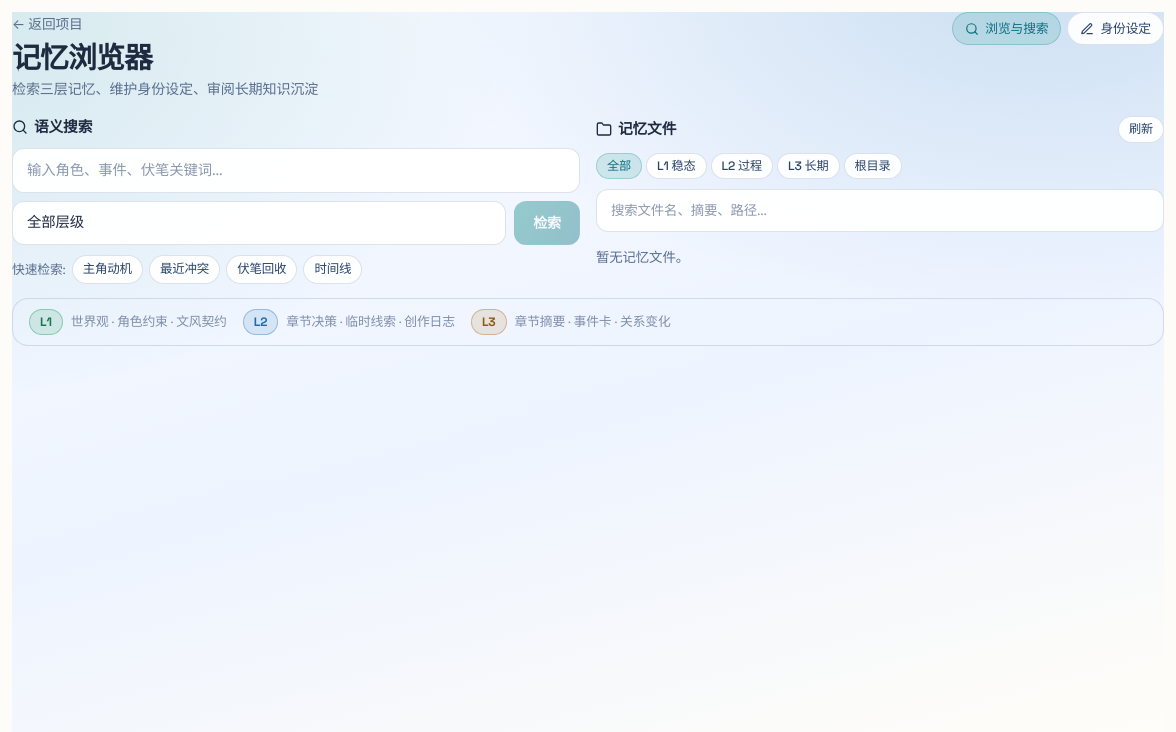
it: MemoryBrowserPage › filters results by layer
Expected: the field with placeholder "输入角色、事件、伏笔关键词..." is shown, 12,148 -> 580,193
Select "仅 L1" in the dropdown named "层级筛选": (259, 223) 12,201 -> 506,245
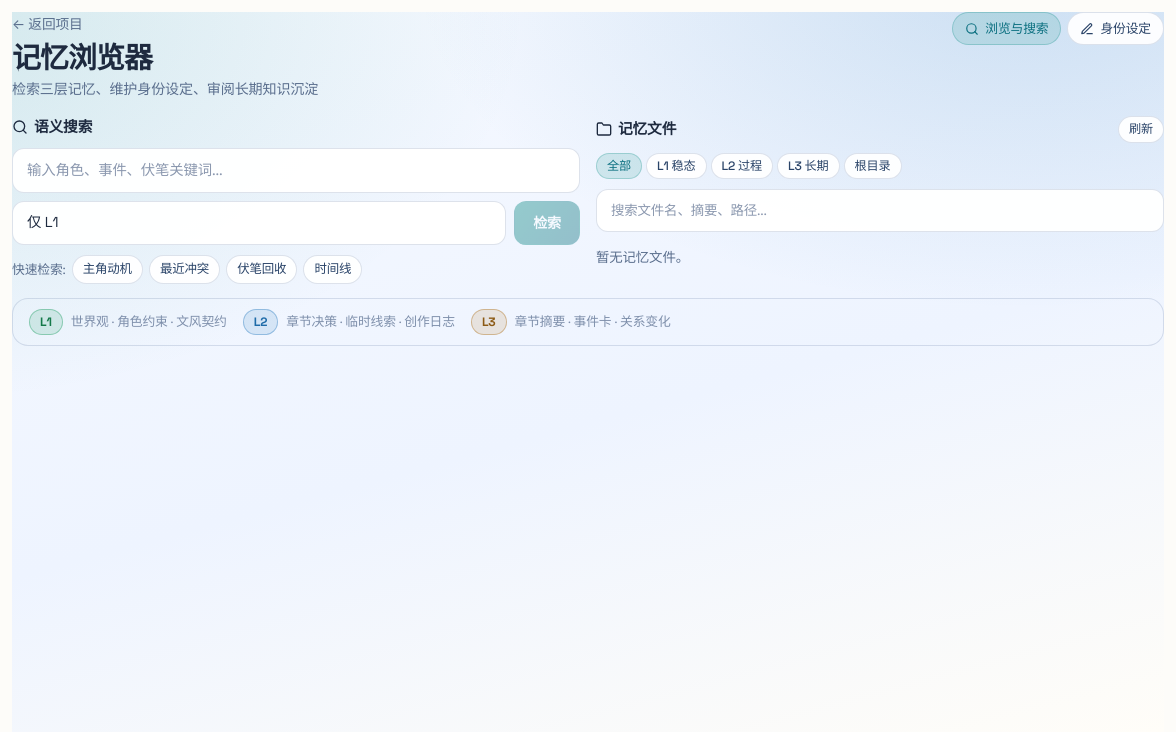
In the field with placeholder "输入角色、事件、伏笔关键词...": (296, 171) 12,148 -> 580,193, type "冰霜"
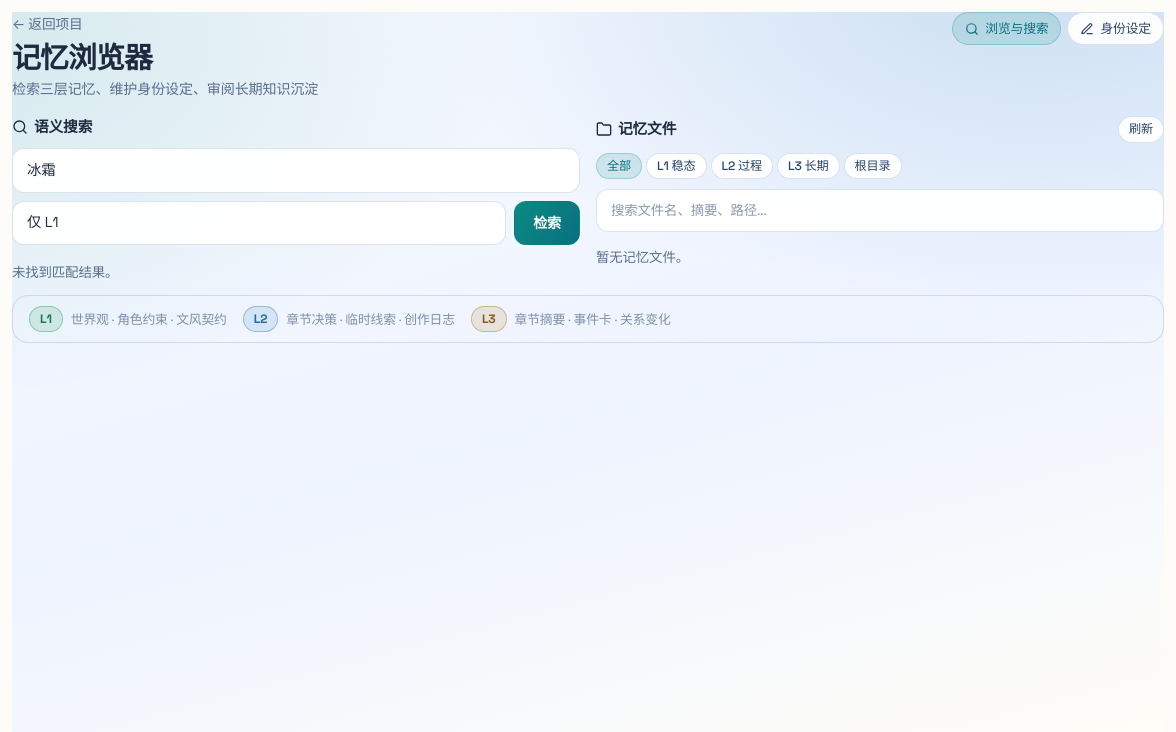
Click the button "检索": click(547, 223) 514,201 -> 580,245
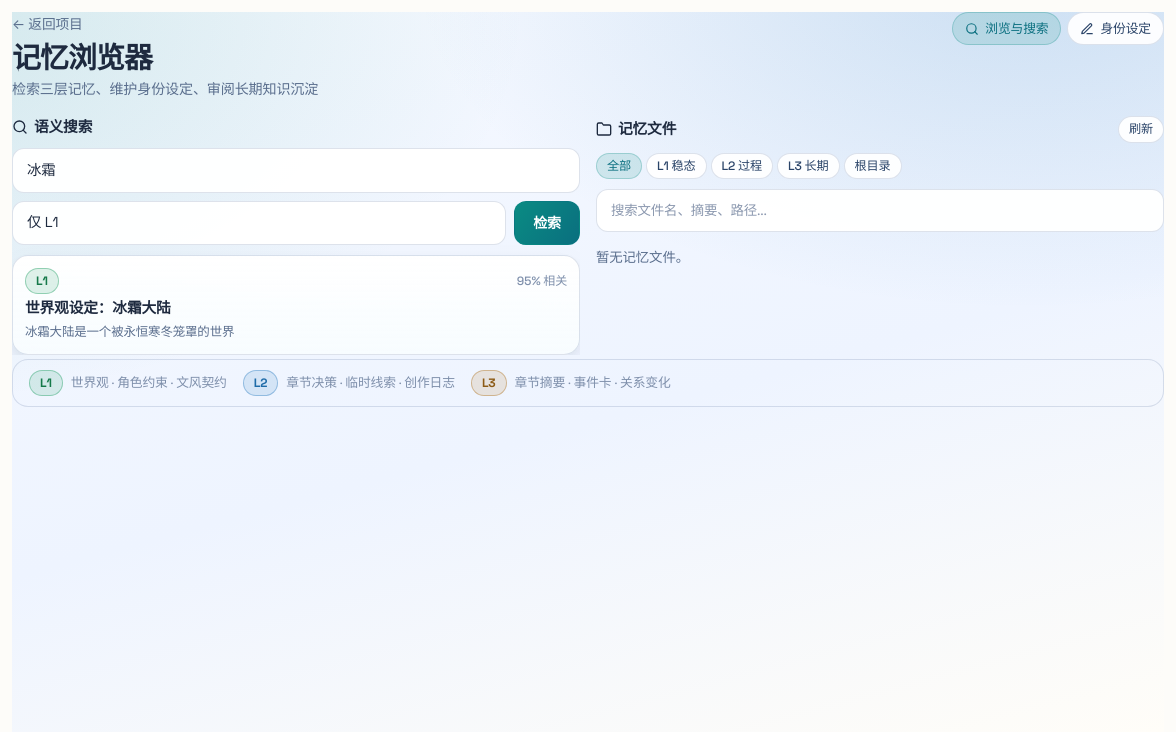
Expected: the heading "世界观设定：冰霜大陆" is shown, 25,299 -> 171,317
